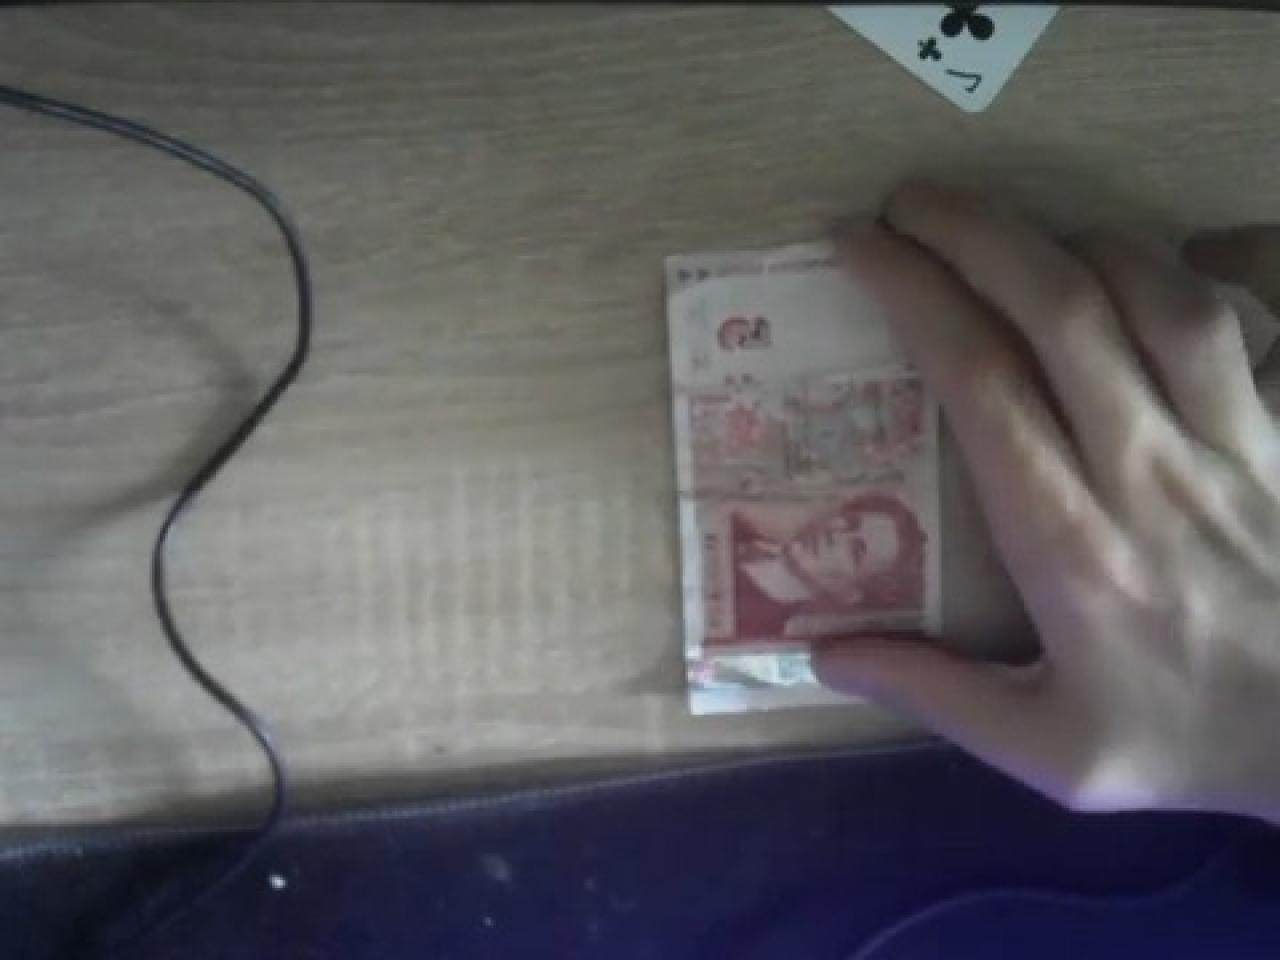5leva: (661, 235, 1005, 715)
